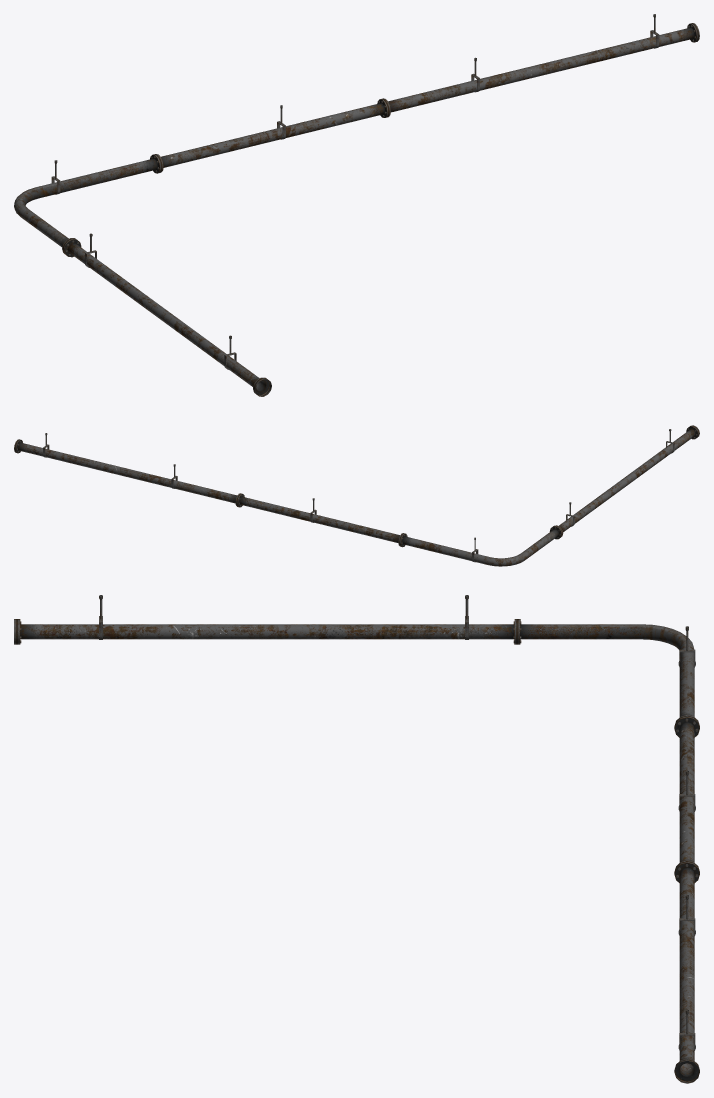
File: Prop_Plumbing_02.fbx
3 views of the same model, one above another, from view 1: azimuth 30°, elevation 25°; view 2: azimuth 150°, elevation 25°; view 3: azimuth 270°, elevation 25° (orthographic). The views are drawn at different scales.
Parts seen in each view (by area): view 1: Prop_Plumbing_02; view 2: Prop_Plumbing_02; view 3: Prop_Plumbing_02.
Part boxes in pixels (left/top/right/bottom): Prop_Plumbing_02: left=14, top=14, right=699, bottom=396; Prop_Plumbing_02: left=14, top=425, right=699, bottom=566; Prop_Plumbing_02: left=14, top=595, right=699, bottom=1083.
Size of the model in its own units: 328 by 16.33 by 213.
